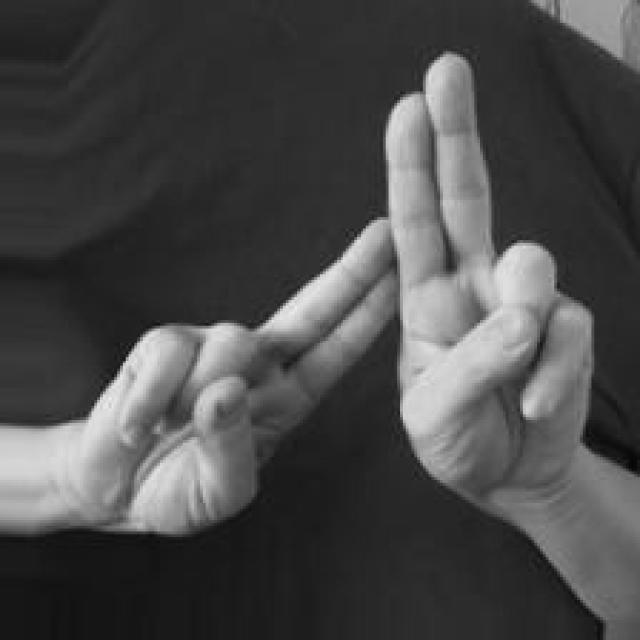K: (81, 49, 595, 536)
